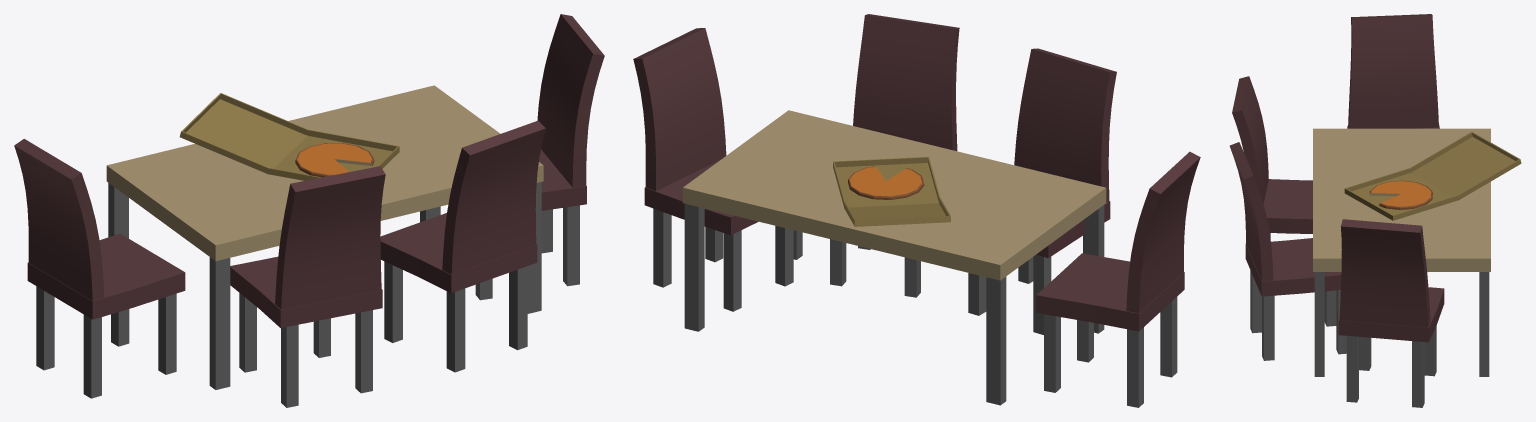
Rendered from Kitchen Table.fbx.
3 views of the same model, side by side, from view 1: azimuth 30°, elevation 25°; view 2: azimuth 150°, elevation 25°; view 3: azimuth 270°, elevation 25° (orthographic). The views are drawn at different scales.
Parts seen in each view (by area): view 1: Kitchen Table and Chairs; view 2: Kitchen Table and Chairs; view 3: Kitchen Table and Chairs.
Boxes of the visible parts, x1=… form: Kitchen Table and Chairs: x1=14, y1=14, x2=604, y2=407; Kitchen Table and Chairs: x1=633, y1=14, x2=1200, y2=407; Kitchen Table and Chairs: x1=1229, y1=14, x2=1521, y2=407.
Bounding box in the file's own units: 119 × 47.5 × 67.23.
